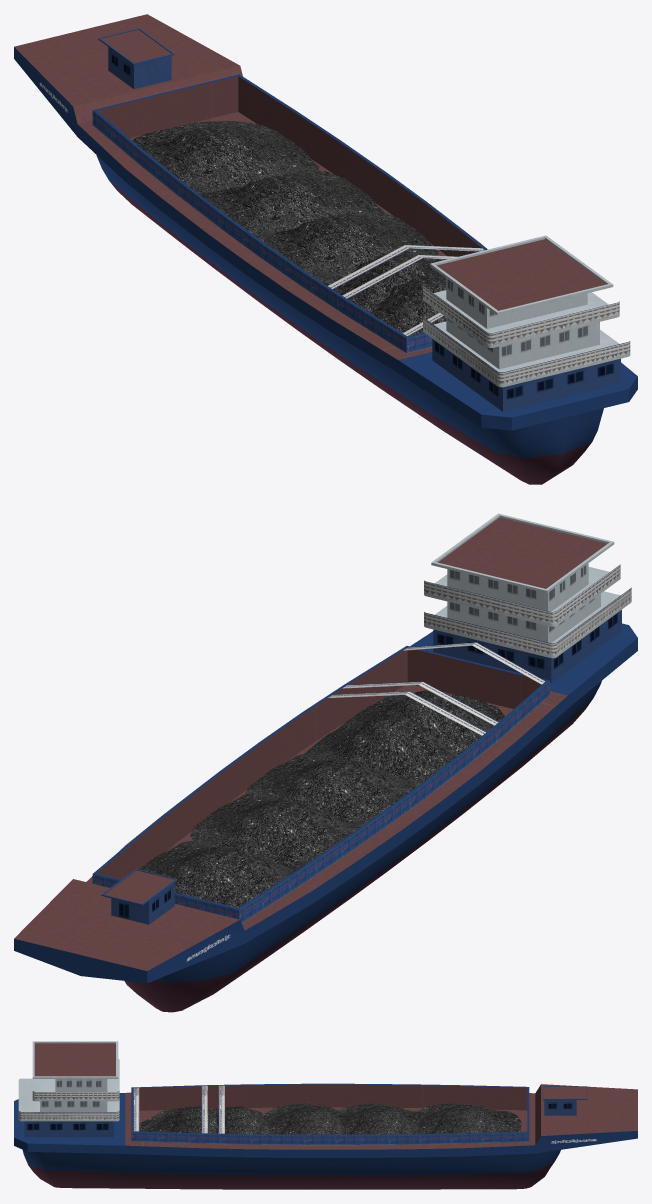
The model's file is ship5.glb.
The picture shows the model from 3 angles, top to bottom: view 1: azimuth 30°, elevation 25°; view 2: azimuth 150°, elevation 25°; view 3: azimuth 270°, elevation 25°; orthographic projection. The views are drawn at different scales.
Visible parts, largest first — view 1: meitanchuan; view 2: meitanchuan; view 3: meitanchuan.
Boxes of the visible parts, x1,y1,x2,y2 form: meitanchuan: [14, 14, 637, 484]; meitanchuan: [14, 513, 637, 1012]; meitanchuan: [14, 1041, 637, 1189].
Size of the model in its own units: 28.24 by 26.99 by 122.
3 materials, 3 textured.
